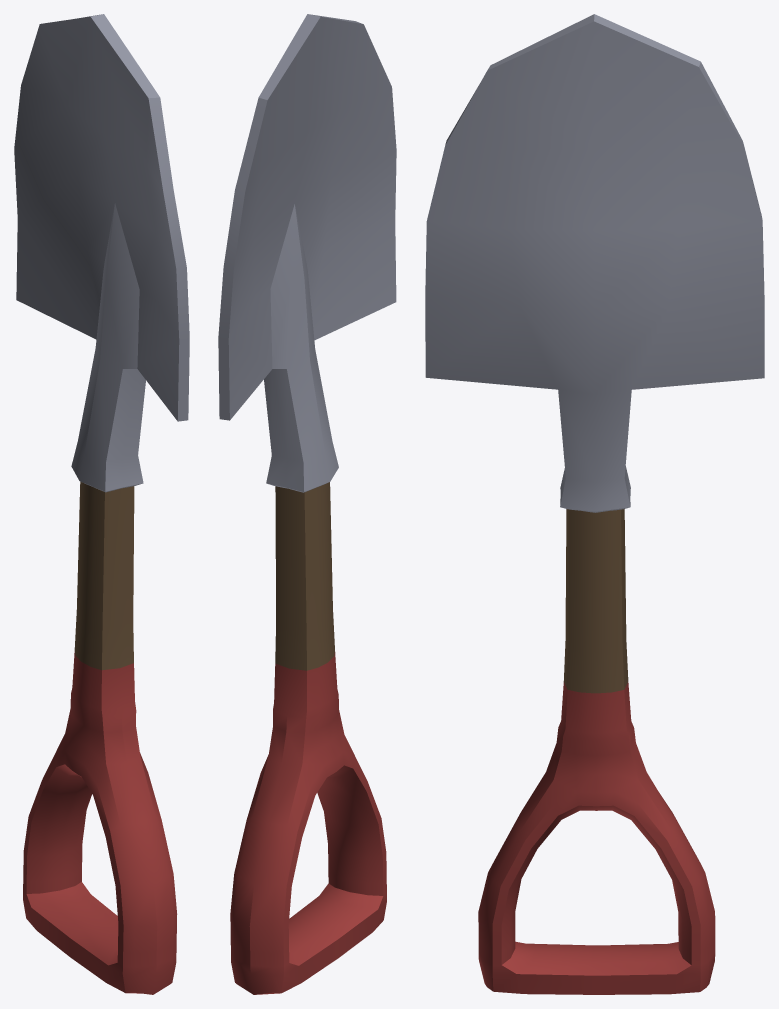
Rendered from SM_Shovel.fbx.
The picture shows the model from 3 angles, left to right: view 1: azimuth 30°, elevation 25°; view 2: azimuth 150°, elevation 25°; view 3: azimuth 270°, elevation 25°; orthographic projection. The views are drawn at different scales.
Visible parts, largest first — view 1: SM_Shovel; view 2: SM_Shovel; view 3: SM_Shovel.
Boxes of the visible parts, x1,y1,x2,y2 form: SM_Shovel: (14, 14, 189, 994); SM_Shovel: (218, 14, 396, 994); SM_Shovel: (425, 14, 764, 994).
Size of the model in its own units: 8.58 by 111 by 35.19.
